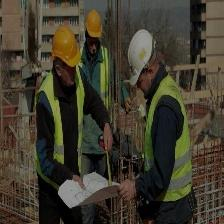Person: (126, 23, 192, 223), (33, 24, 81, 222), (80, 8, 114, 220)
helmet: (126, 26, 157, 86), (50, 27, 82, 71), (85, 9, 104, 43)
vest: (140, 78, 190, 200), (35, 72, 83, 182), (83, 50, 109, 128)
